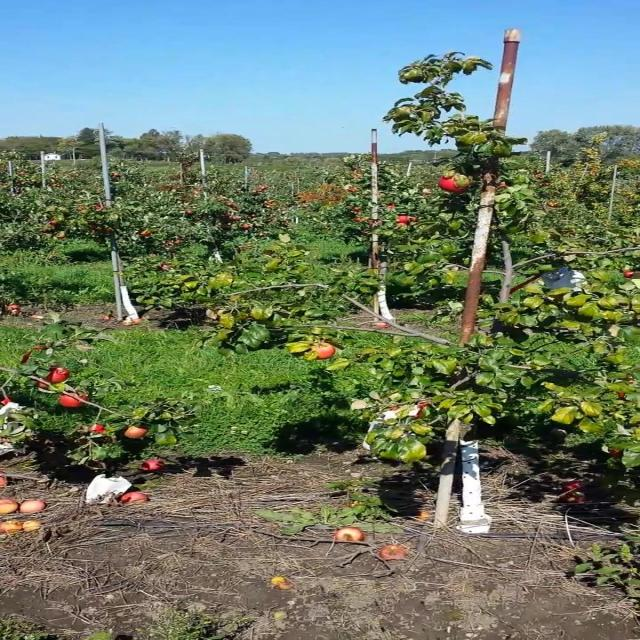apple: (440, 176, 469, 194), (312, 344, 336, 360), (49, 368, 71, 384), (63, 396, 91, 408), (141, 460, 165, 472), (127, 428, 149, 440), (412, 408, 427, 420), (6, 304, 21, 316), (92, 424, 107, 434), (35, 380, 50, 390), (625, 272, 635, 280), (611, 452, 624, 456), (8, 400, 12, 403)
